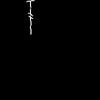treble_crochet: (29, 0, 33, 28)
